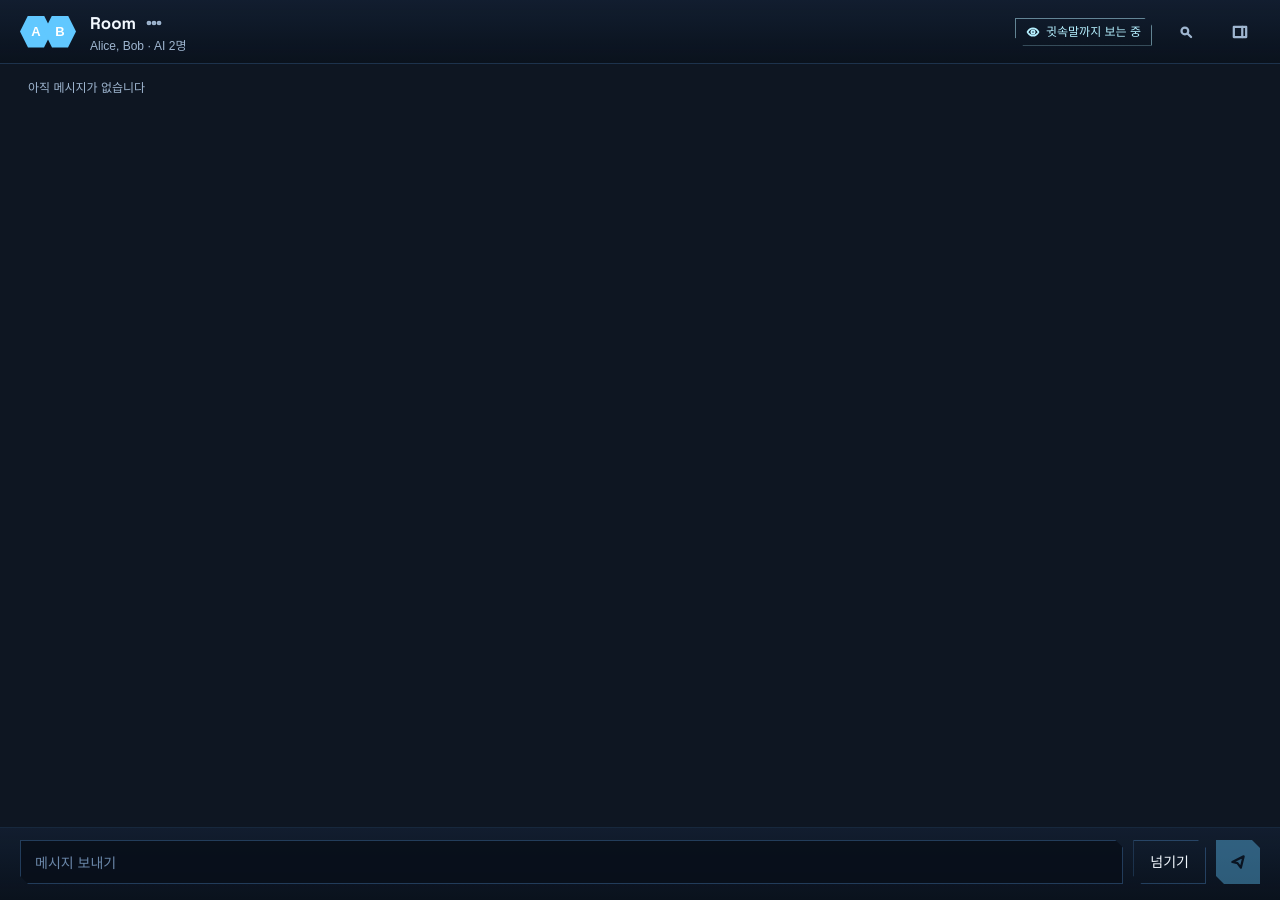
pass button (F1) › shows the translated reason when main refuses the pass
Click the button with test id "chat-pass-turn" at {"x": 1170, "y": 862}, box [1133,840,1206,884]
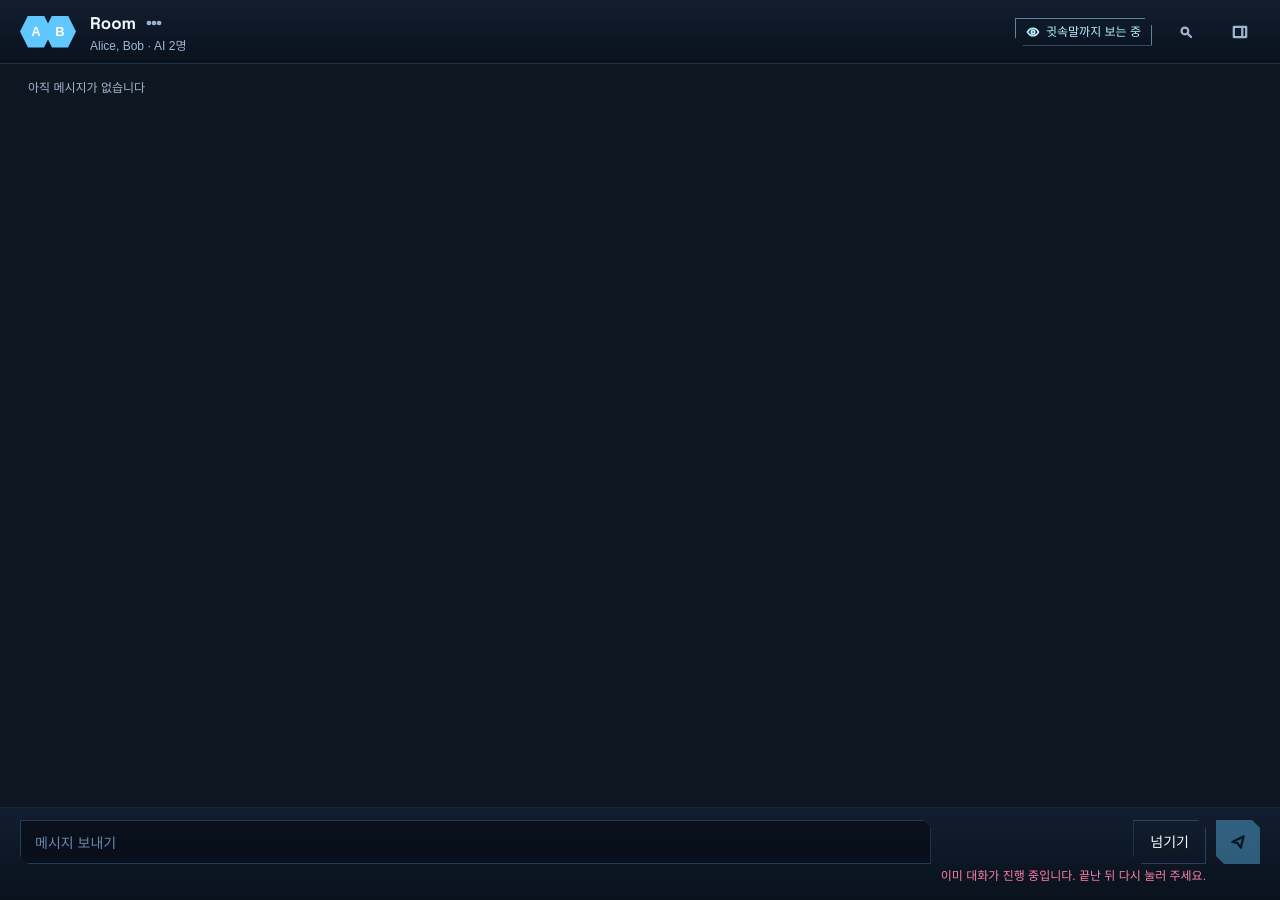
expect the message with test id "chat-pass-turn-error" reads "이미 대화가 진행 중입니다. 끝난 뒤 다시 눌러 주세요.": met, box [941,869,1206,883]
